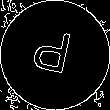P_S: (32, 27, 78, 83)
